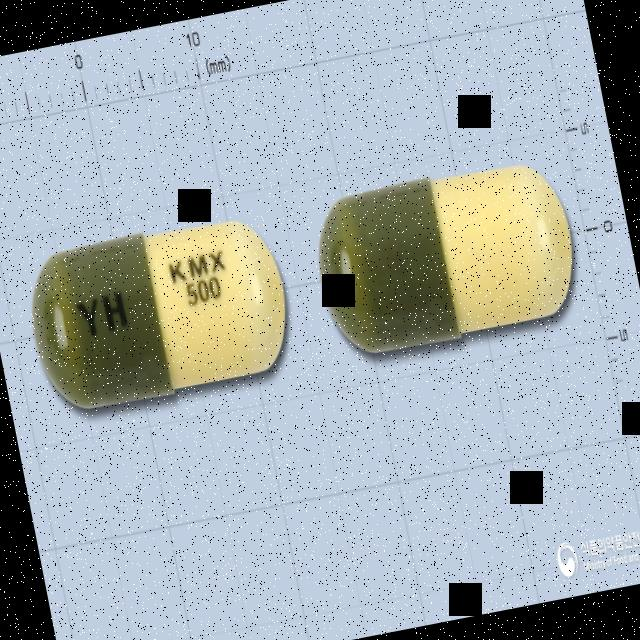Kymoxin Cap-500mg: (19, 209, 300, 419)
